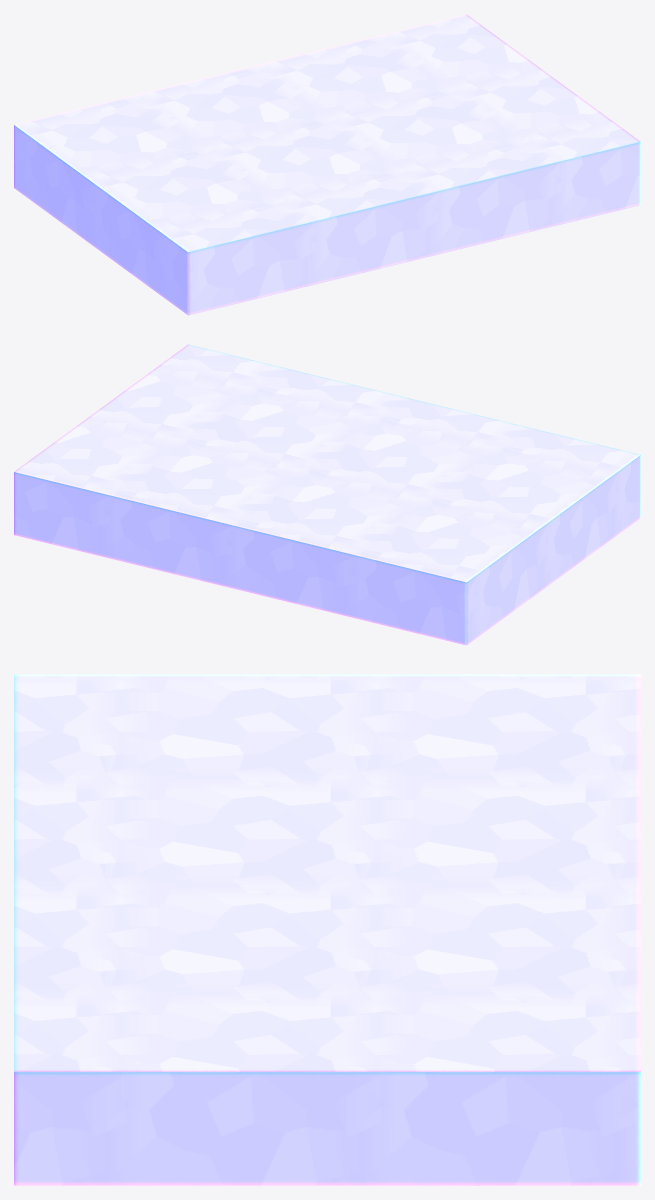
Rendered from Ceiling1.fbx.
The picture shows the model from 3 angles, top to bottom: view 1: azimuth 30°, elevation 25°; view 2: azimuth 150°, elevation 25°; view 3: azimuth 270°, elevation 25°; orthographic projection. The views are drawn at different scales.
Visible parts, largest first — view 1: Ceiling1; view 2: Ceiling1; view 3: Ceiling1.
Part boxes in pixels (bbox=[...]): Ceiling1: bbox=[14, 14, 640, 315]; Ceiling1: bbox=[14, 344, 640, 645]; Ceiling1: bbox=[14, 674, 640, 1185].
Size of the model in its own units: 1500 by 282 by 1000.
1 material, 1 textured.
